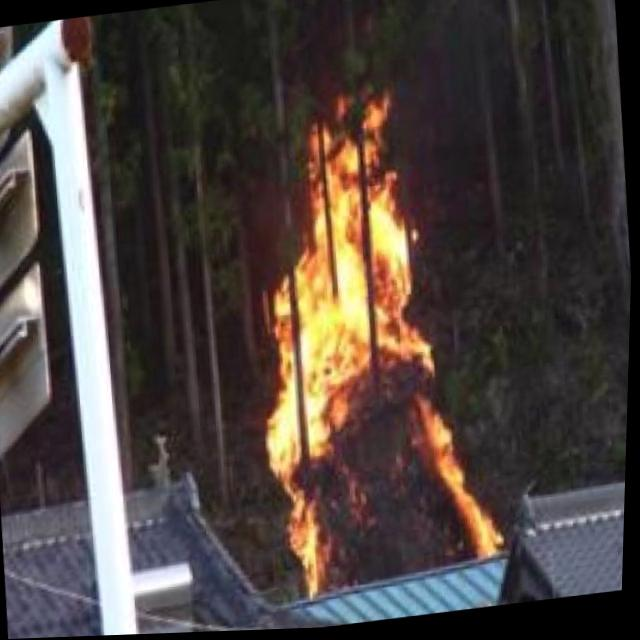fire: (242, 80, 514, 602)
